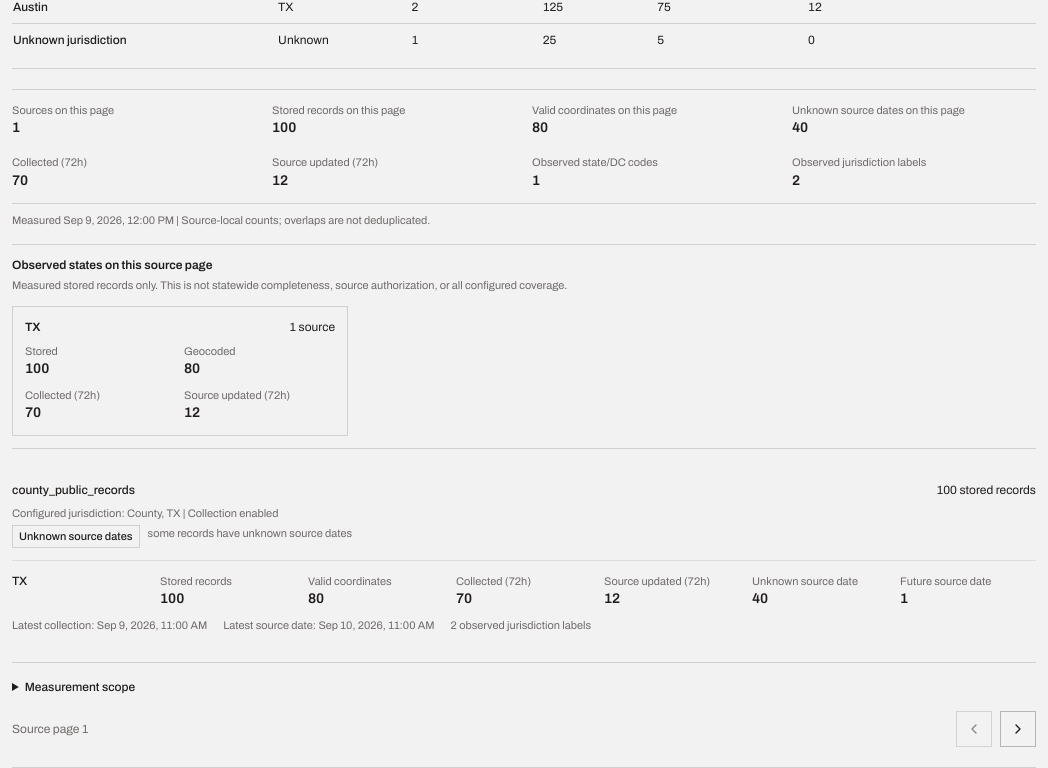
Test: MeasuredCoveragePanel › filters the source page by readiness status without changing the full readiness rollup copy
(page scrolled)
Expected: the element "county_public_records" is shown, [12, 460, 1036, 662]
Click the button named "Next source page" at coordinates (1018, 728), box [1000, 710, 1036, 746]
(page scrolled)
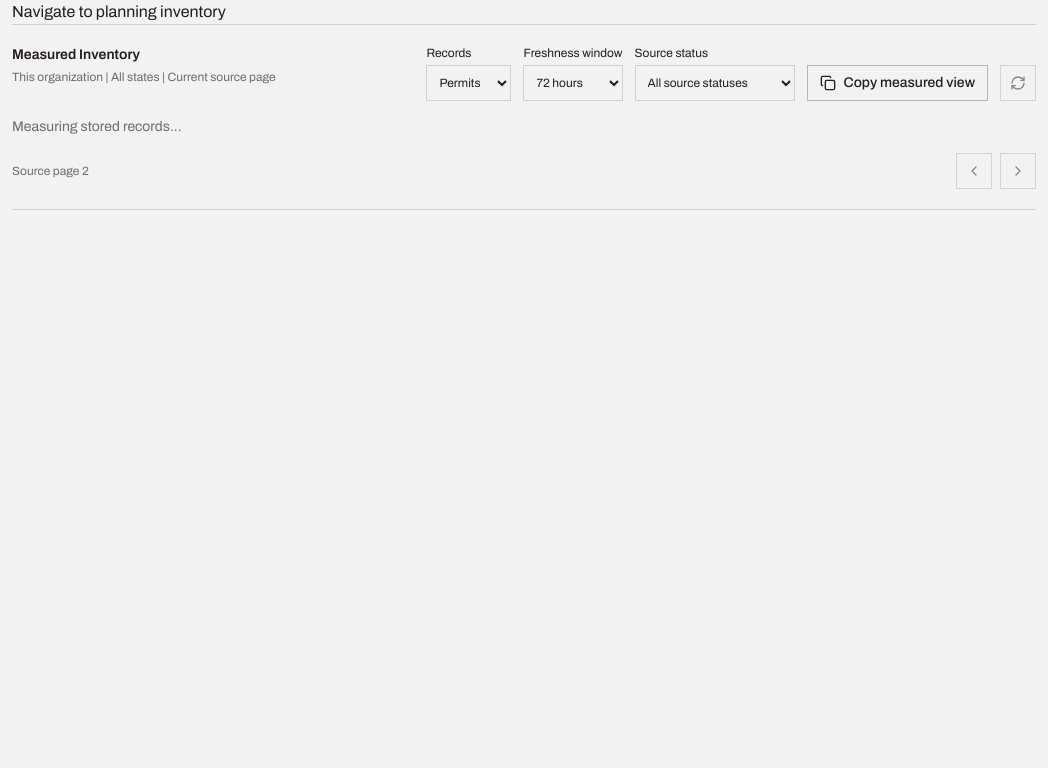
Select "Empty" in the dropdown labelled "Source status" at coordinates (714, 83), box [634, 65, 794, 101]
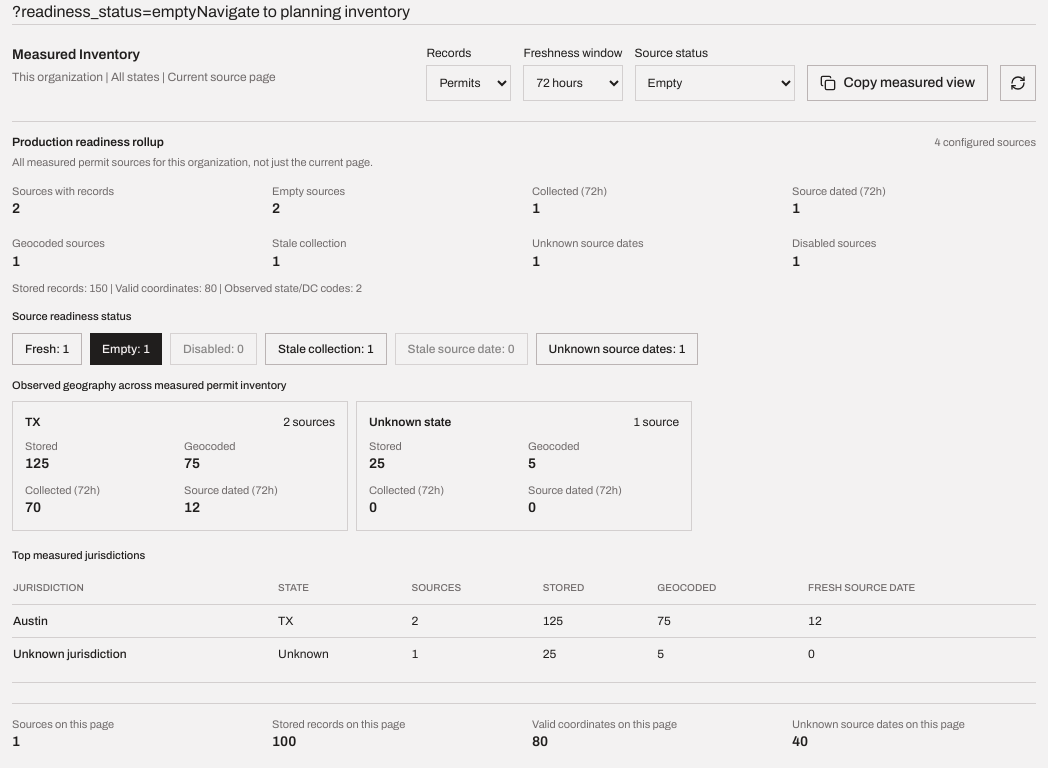
Result: the text "All measured permit sources for this organization, not just the current page." is shown at [12, 154, 373, 170]
Result: the text with test id "location-search" reads "?readiness_status=empty" at [12, 3, 196, 20]
Select "All source statuses" in the dropdown labelled "Source status" at coordinates (714, 83), box [634, 65, 794, 101]
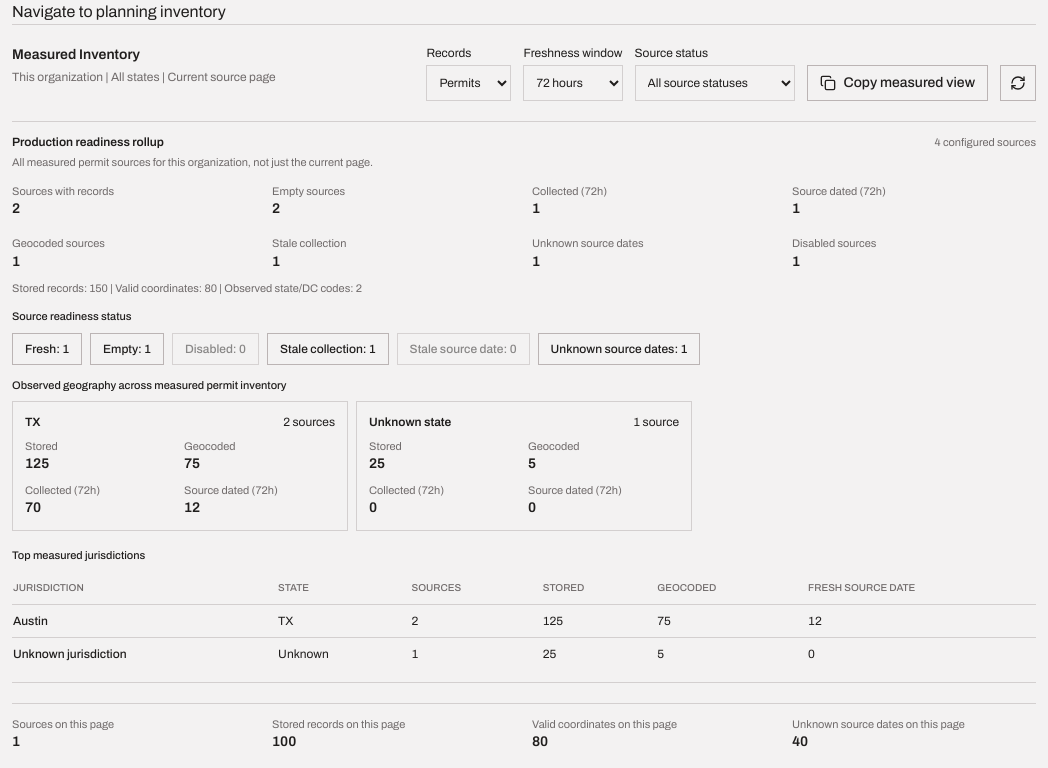
Click the button "Stale collection: 1" at coordinates (328, 348), box [267, 332, 389, 364]
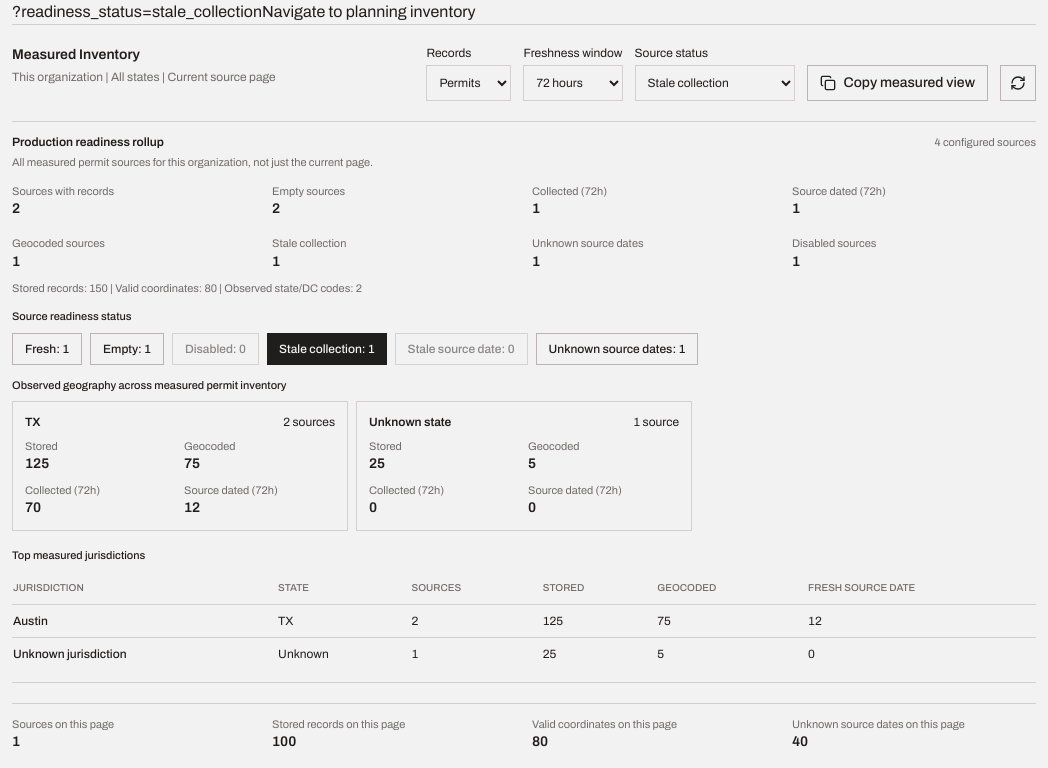
Result: the text with test id "location-search" reads "?readiness_status=stale_collection" at [12, 3, 262, 20]
